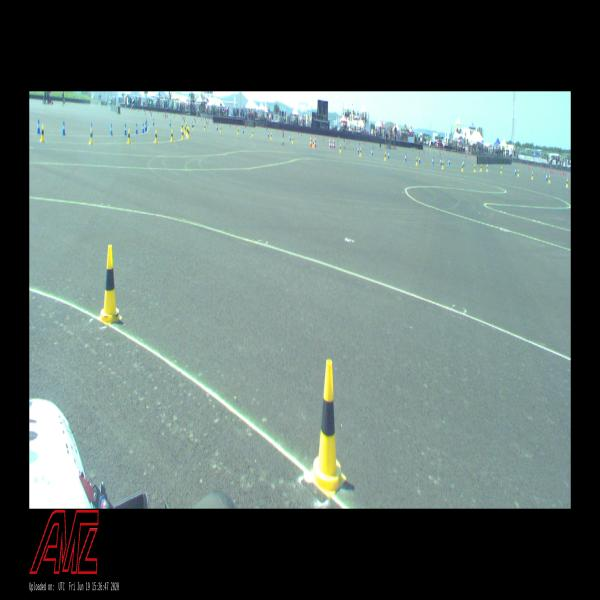blue_cone: (37, 119, 41, 134), (62, 121, 66, 136), (110, 123, 113, 136), (90, 123, 93, 136), (124, 124, 127, 136), (387, 151, 390, 159), (439, 158, 442, 166), (136, 124, 138, 134), (142, 123, 144, 133), (144, 122, 146, 132), (146, 121, 148, 131), (371, 148, 373, 157), (404, 153, 406, 162), (432, 157, 434, 165), (448, 158, 450, 166), (357, 146, 359, 154), (514, 168, 516, 176), (331, 141, 333, 149), (289, 134, 291, 141), (216, 124, 218, 130), (419, 155, 420, 163), (546, 173, 547, 180), (153, 119, 154, 126), (192, 121, 193, 128), (170, 120, 171, 126), (463, 160, 464, 166), (243, 128, 244, 134), (268, 131, 269, 137)
large_orange_cone: (314, 135, 317, 147), (329, 137, 331, 149), (310, 135, 312, 147), (333, 138, 335, 148)
yellow_cone: (308, 360, 346, 498), (98, 245, 122, 325), (40, 124, 45, 142), (89, 128, 93, 145), (127, 129, 131, 144), (154, 130, 158, 143), (170, 130, 174, 141), (548, 175, 551, 183), (182, 129, 184, 140), (416, 156, 418, 166), (184, 124, 186, 134), (188, 128, 190, 138), (187, 126, 189, 136), (360, 148, 362, 157), (461, 163, 463, 172), (442, 160, 444, 169), (518, 169, 520, 177), (474, 164, 476, 172), (480, 164, 482, 172), (566, 179, 568, 187), (384, 152, 386, 160), (292, 136, 294, 144), (486, 164, 488, 172), (270, 132, 272, 140), (181, 123, 183, 131), (532, 172, 534, 179), (220, 125, 222, 132), (186, 123, 188, 130), (204, 124, 206, 130), (340, 144, 341, 153), (313, 139, 314, 147), (193, 122, 194, 130), (501, 166, 502, 173), (252, 129, 253, 136), (238, 128, 239, 134)
